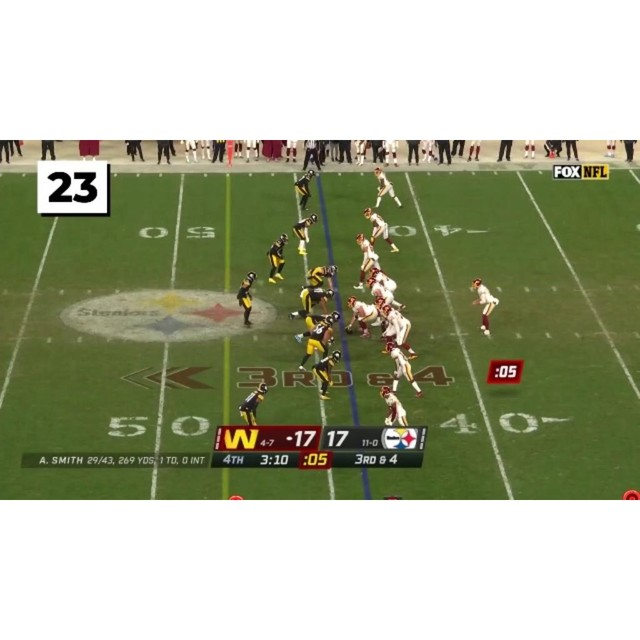american-football-player: (295, 315, 338, 372), (379, 303, 417, 358), (385, 342, 422, 397), (470, 277, 500, 337), (363, 206, 399, 253), (288, 287, 335, 321), (345, 295, 379, 338), (355, 233, 380, 289), (312, 351, 341, 399), (238, 382, 268, 426), (374, 166, 403, 209), (380, 385, 408, 427), (236, 271, 257, 326), (293, 213, 318, 257), (266, 233, 288, 282), (300, 266, 337, 295), (294, 169, 317, 211), (368, 265, 398, 292)
